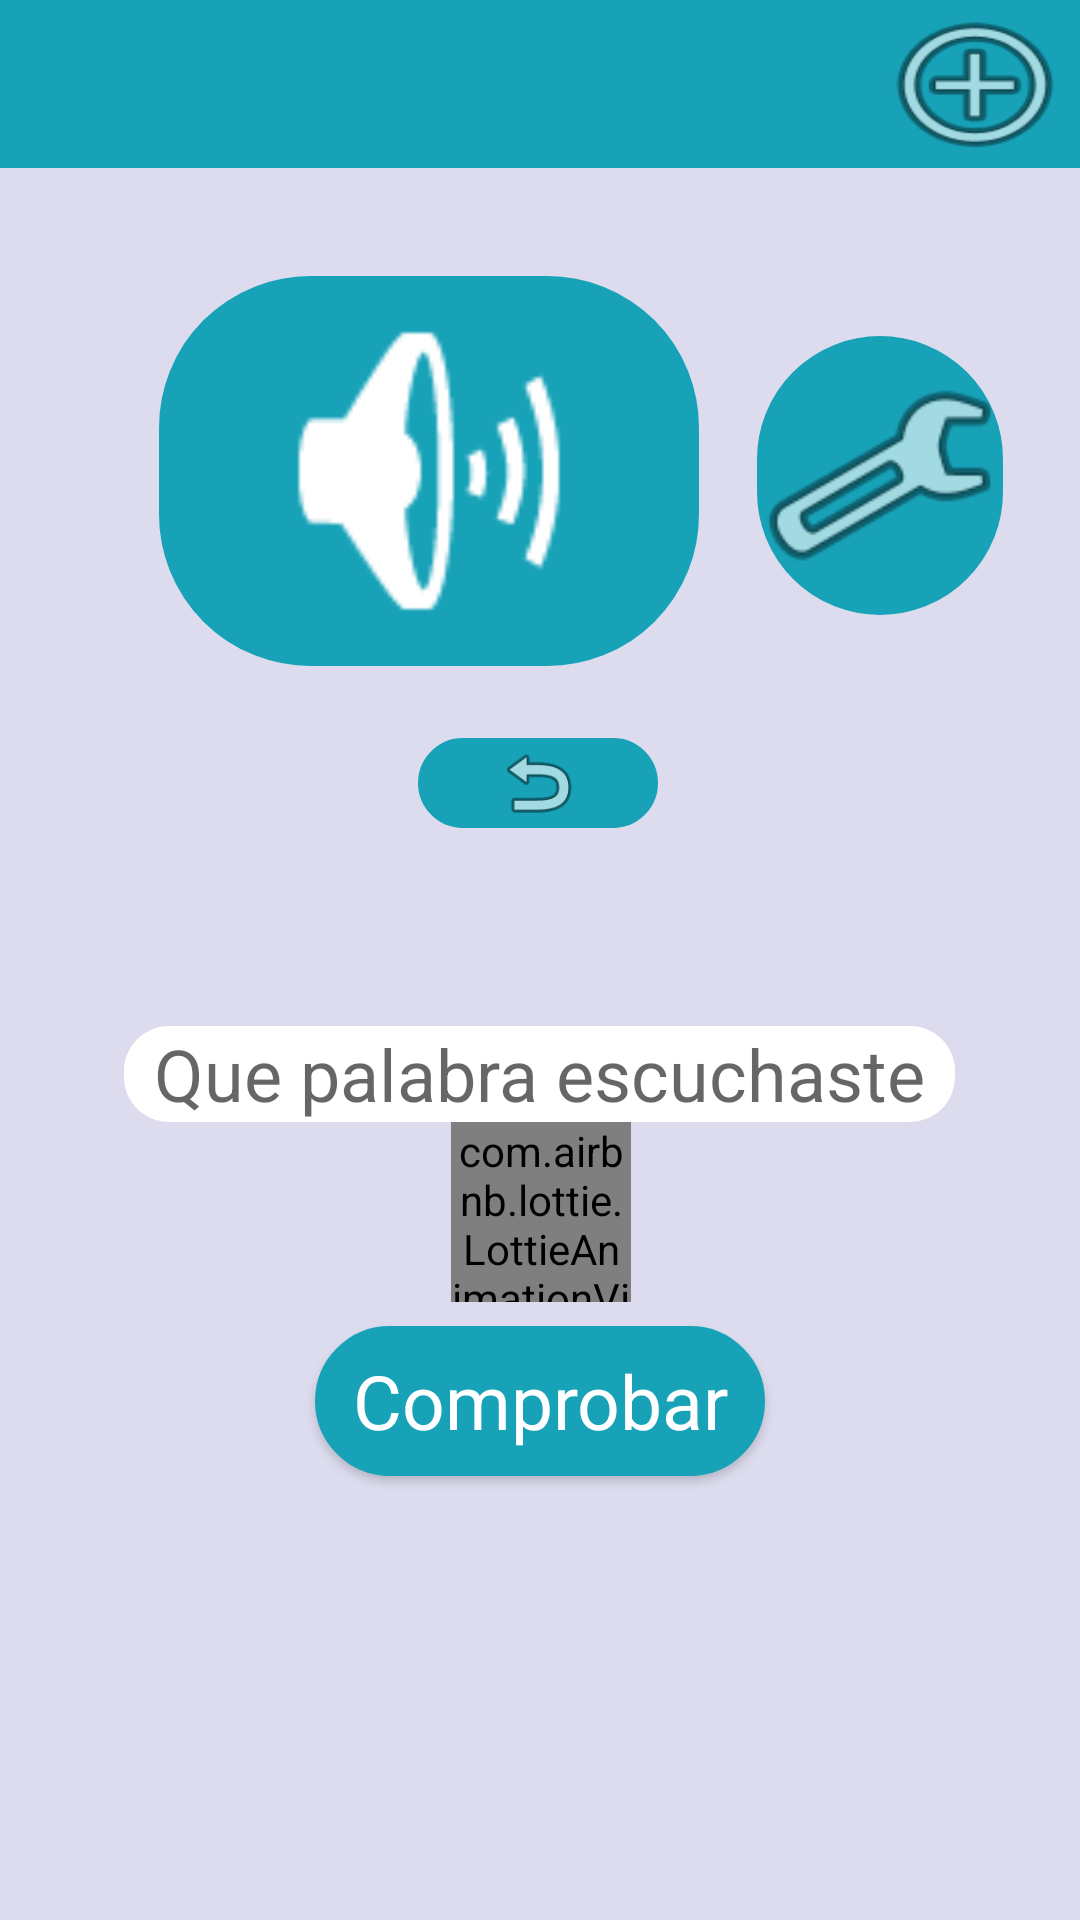

Screen size 1080w x 1920h. Icon name, then its center in pixels as (x,y):
add: (975,85)
